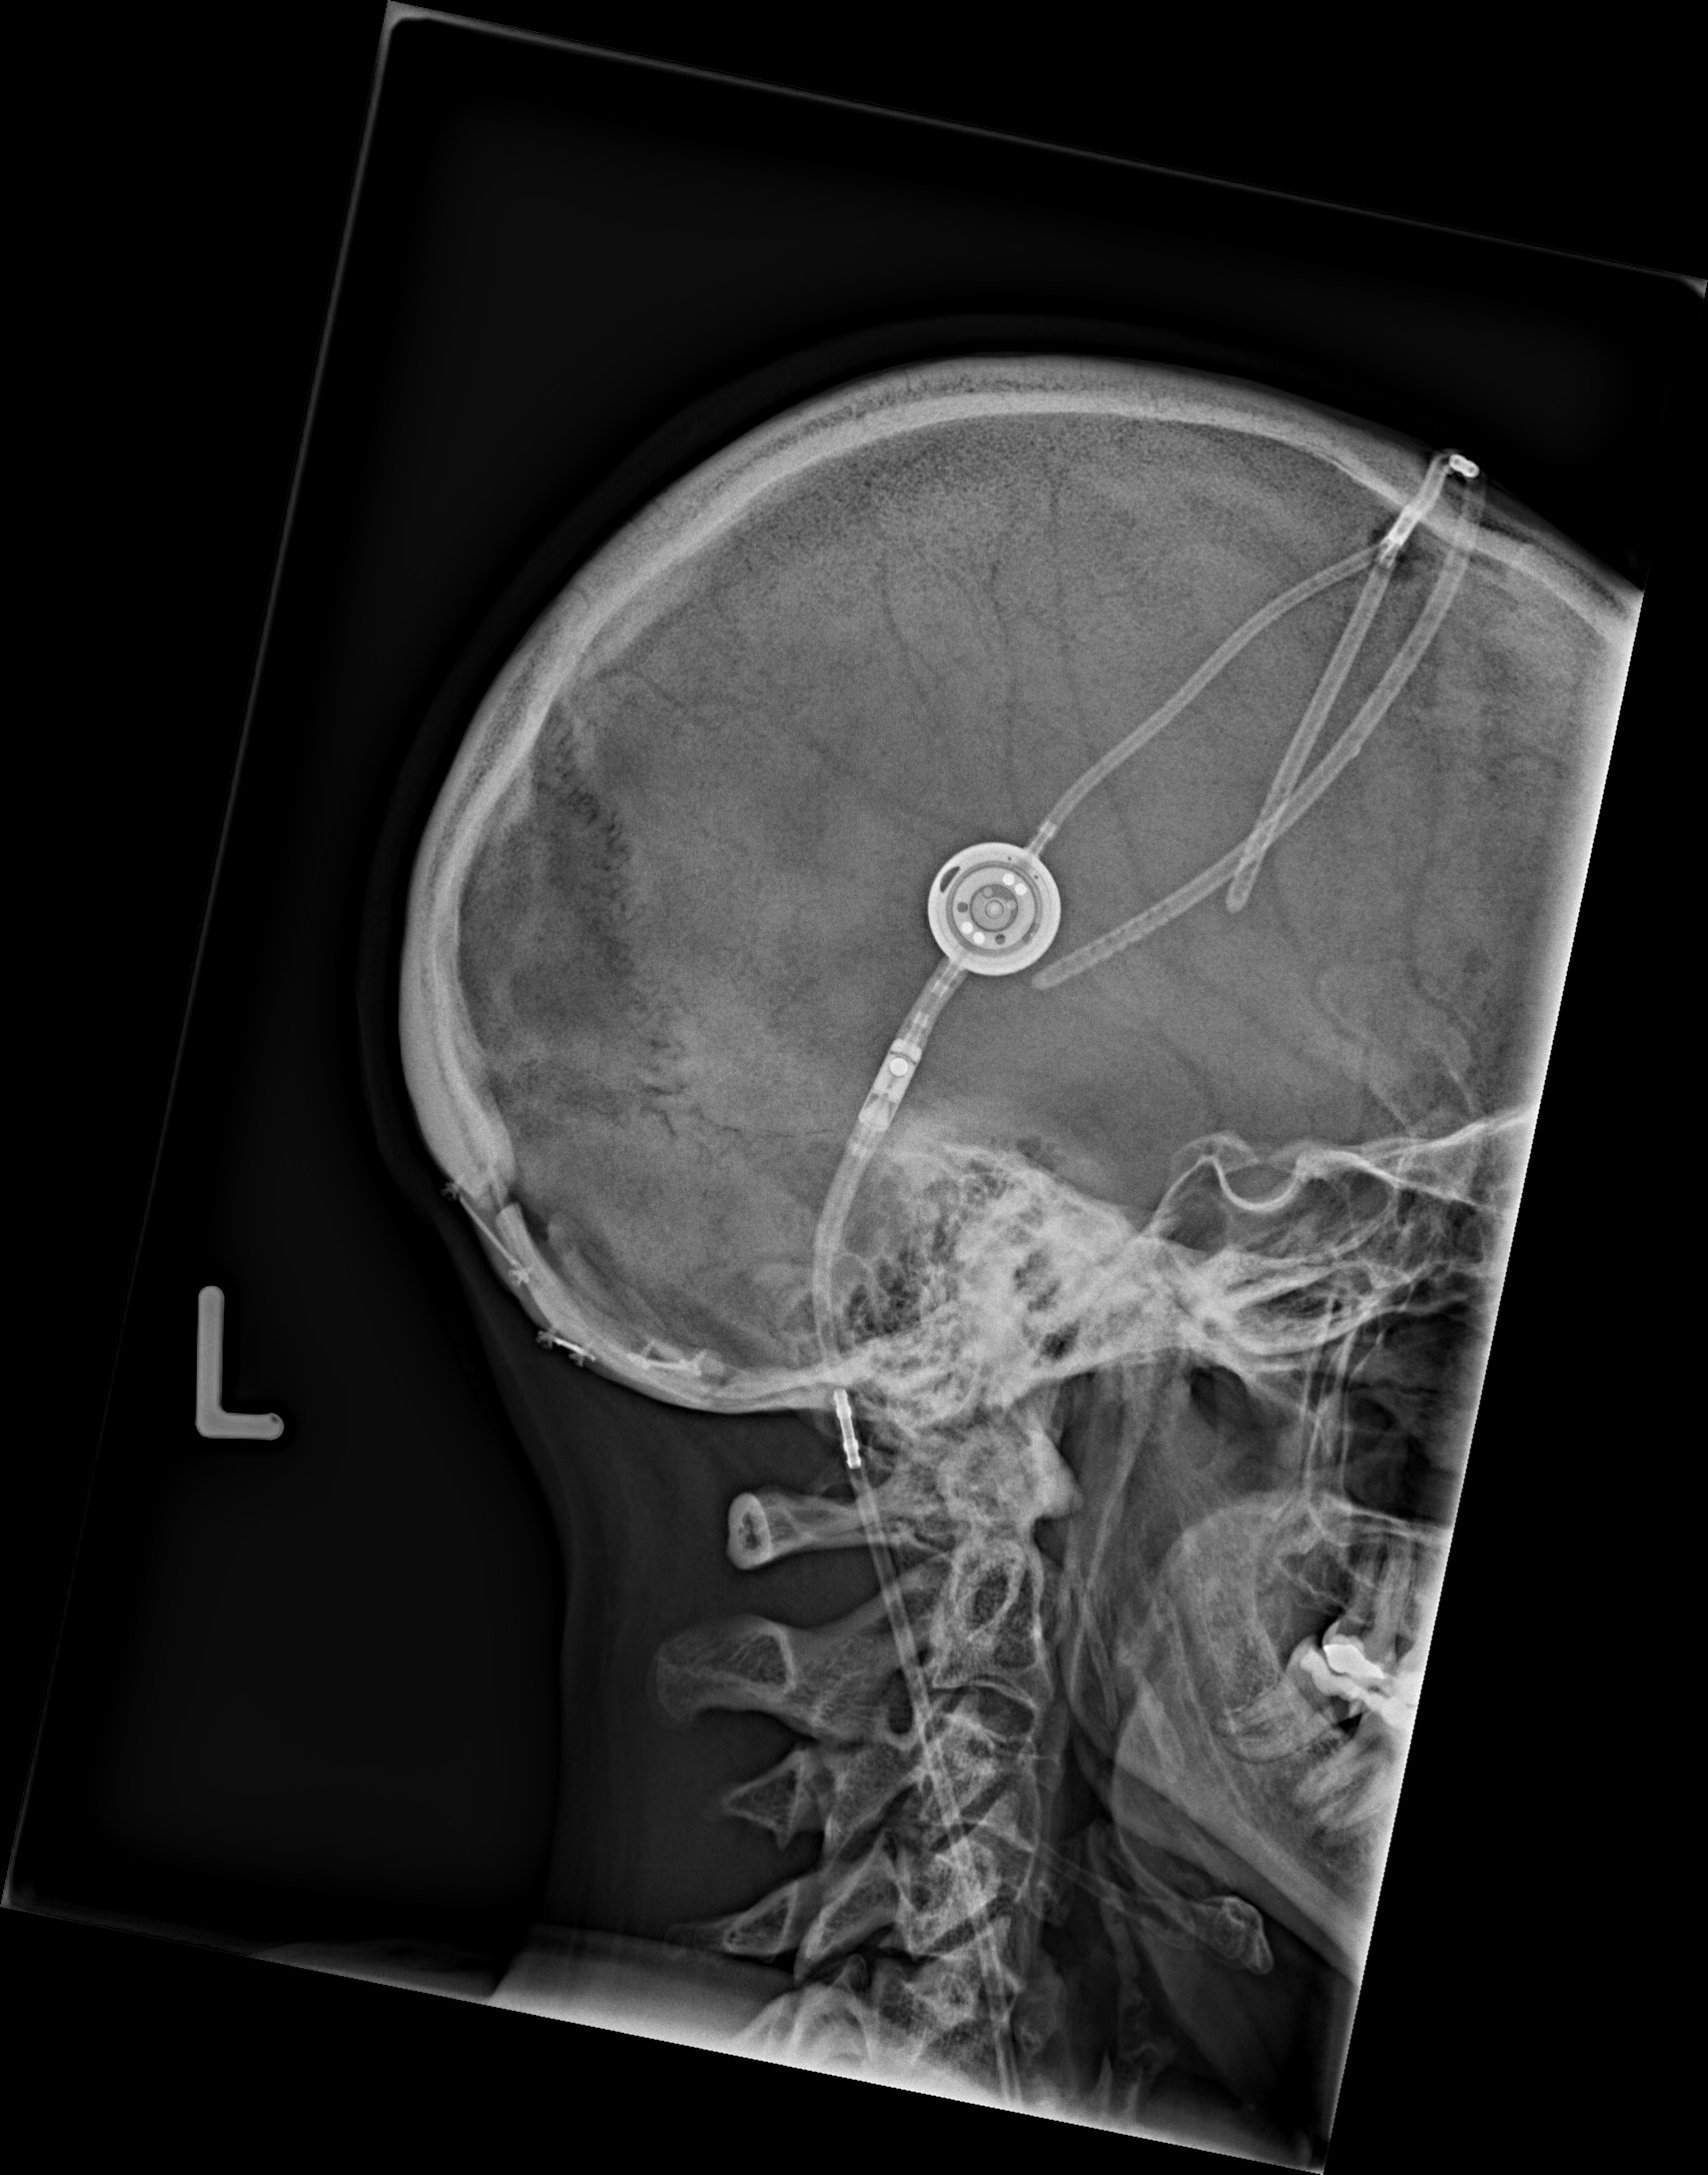proGAV 2.0: (919, 837, 1064, 982)
proGAV Gravitationseinheit: (850, 1029, 925, 1139)
